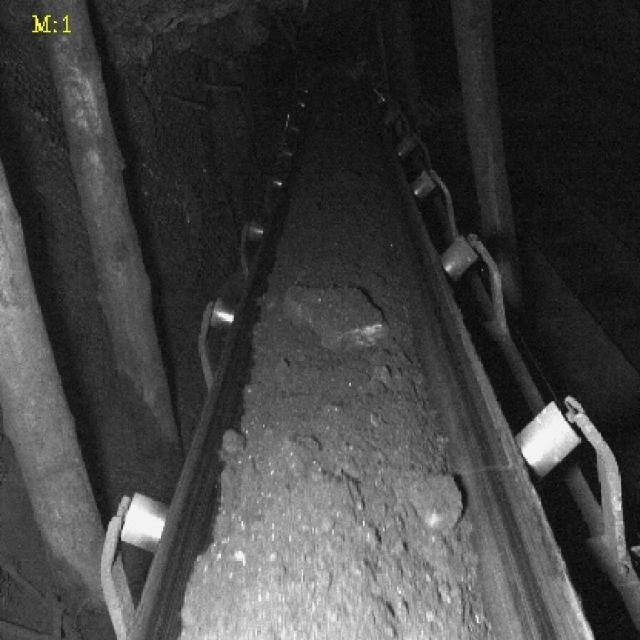large_sized_coal: (286, 283, 389, 352), (408, 471, 469, 531)
